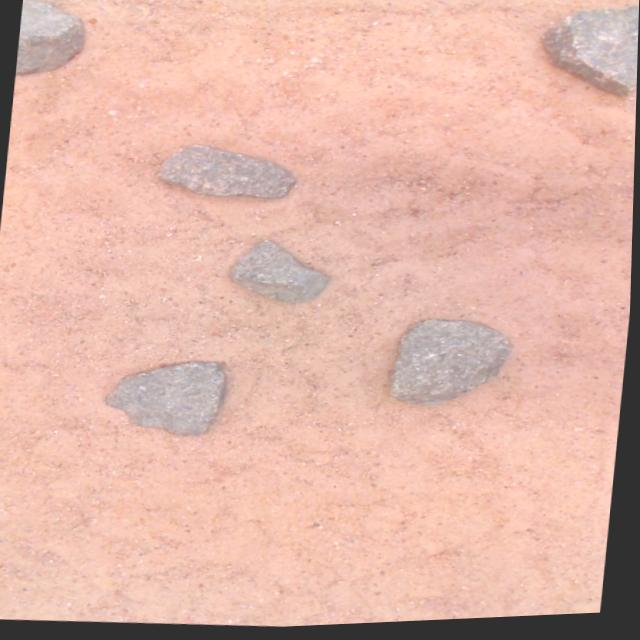rock: (390, 323, 511, 409), (540, 11, 639, 101), (105, 363, 225, 436), (157, 146, 294, 199), (229, 242, 329, 304), (15, 0, 83, 75)
